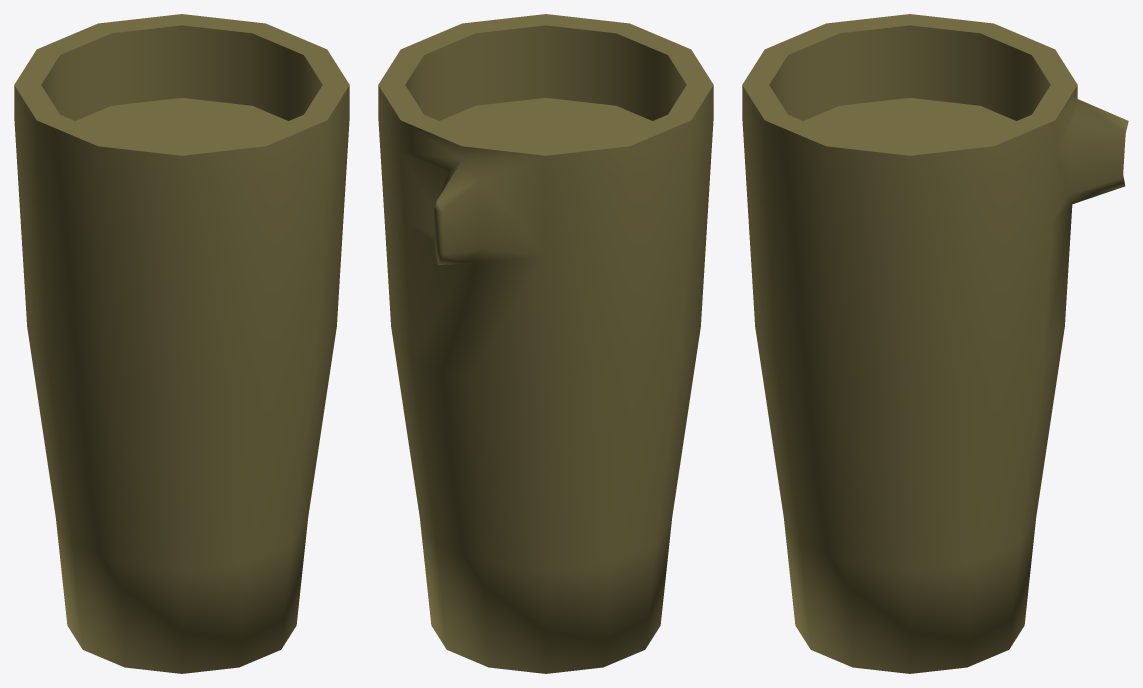
3 views of the same model, side by side, from view 1: azimuth 30°, elevation 25°; view 2: azimuth 150°, elevation 25°; view 3: azimuth 270°, elevation 25° (orthographic).
Parts seen in each view (by area): view 1: NetLauncher; view 2: NetLauncher; view 3: NetLauncher.
Part boxes in pixels (box(x1,y1,x2,y2)): NetLauncher: box(14, 14, 349, 673); NetLauncher: box(378, 14, 713, 673); NetLauncher: box(742, 14, 1128, 673).
Size of the model in its own units: 0.36 by 0.64 by 0.4147.
Materials: 1 (1 with a texture image).
